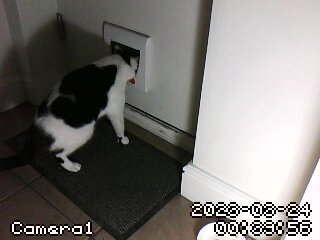bad: (25, 49, 148, 175)
